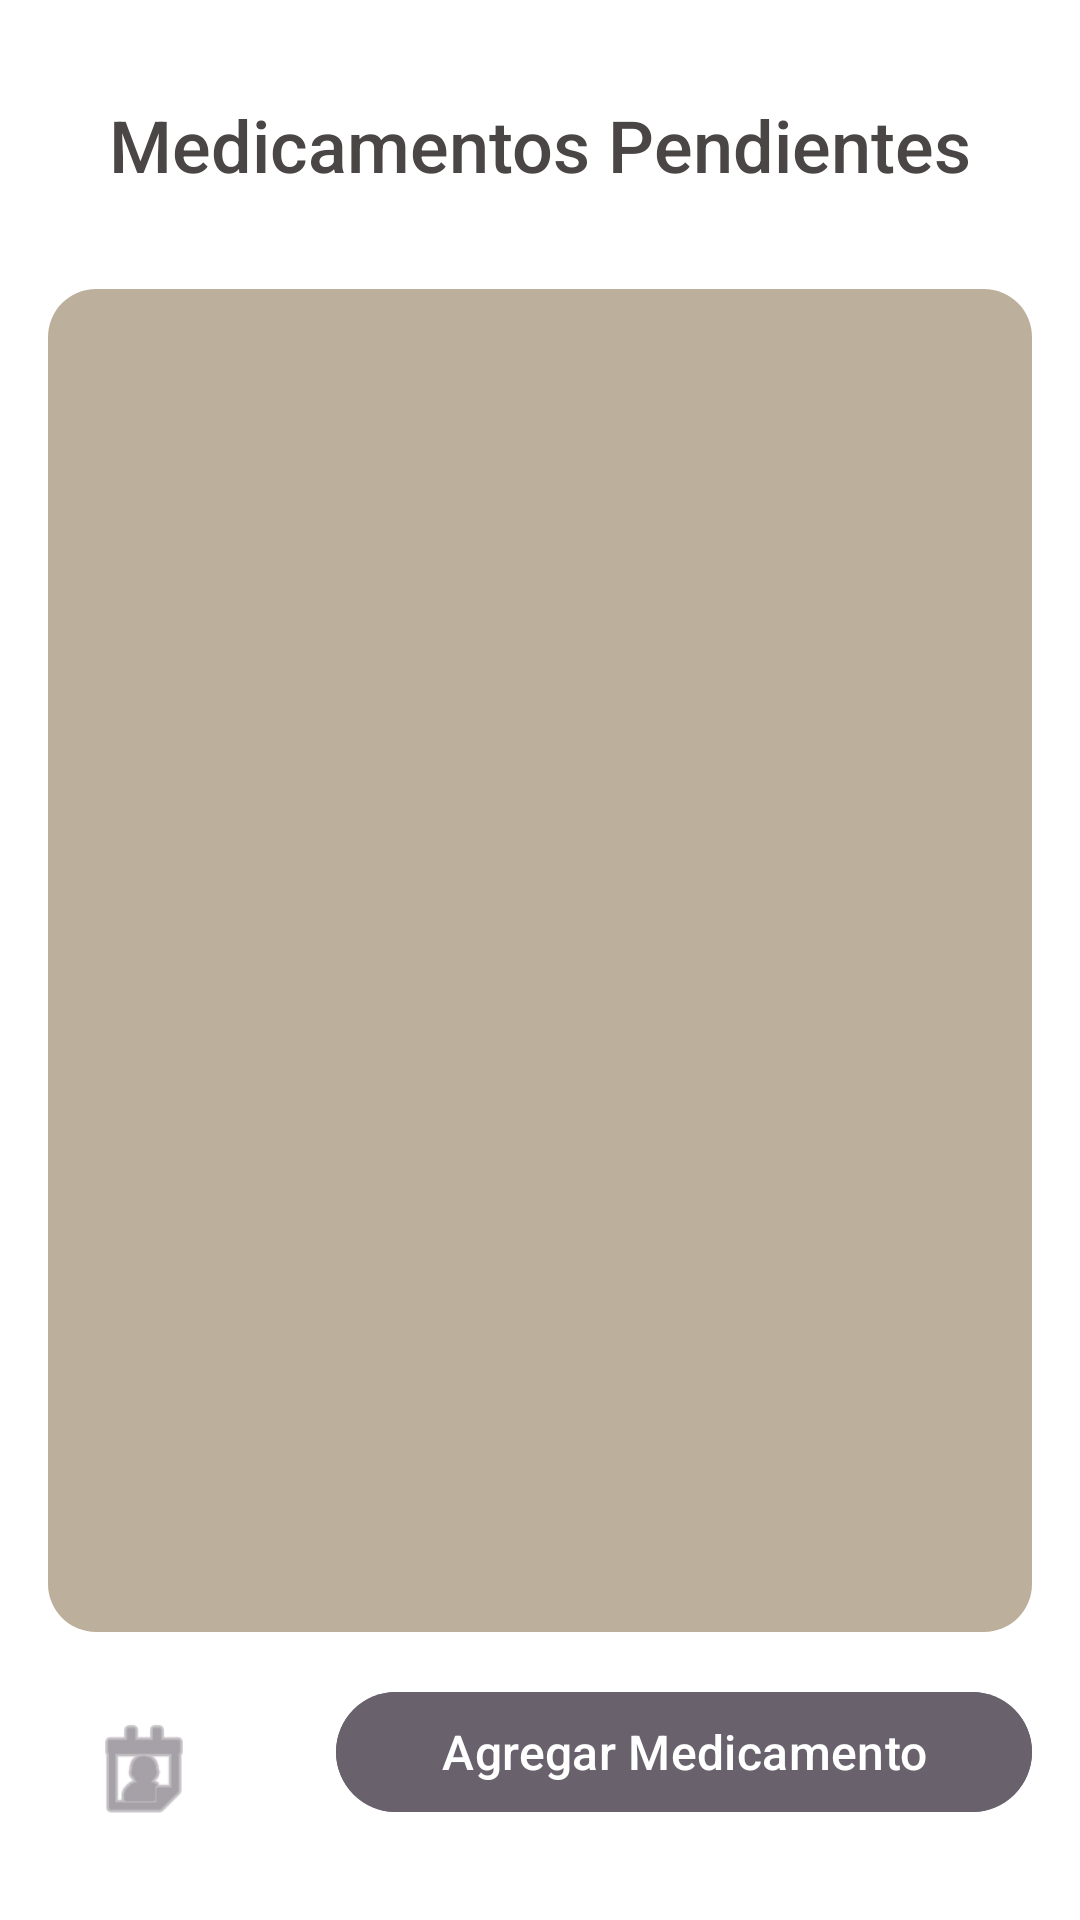

Named icons in this screenshot (1080x1920) and their bounding boxes, (x1, y1, x2, y2):
calendar: (105, 1725, 183, 1813)
